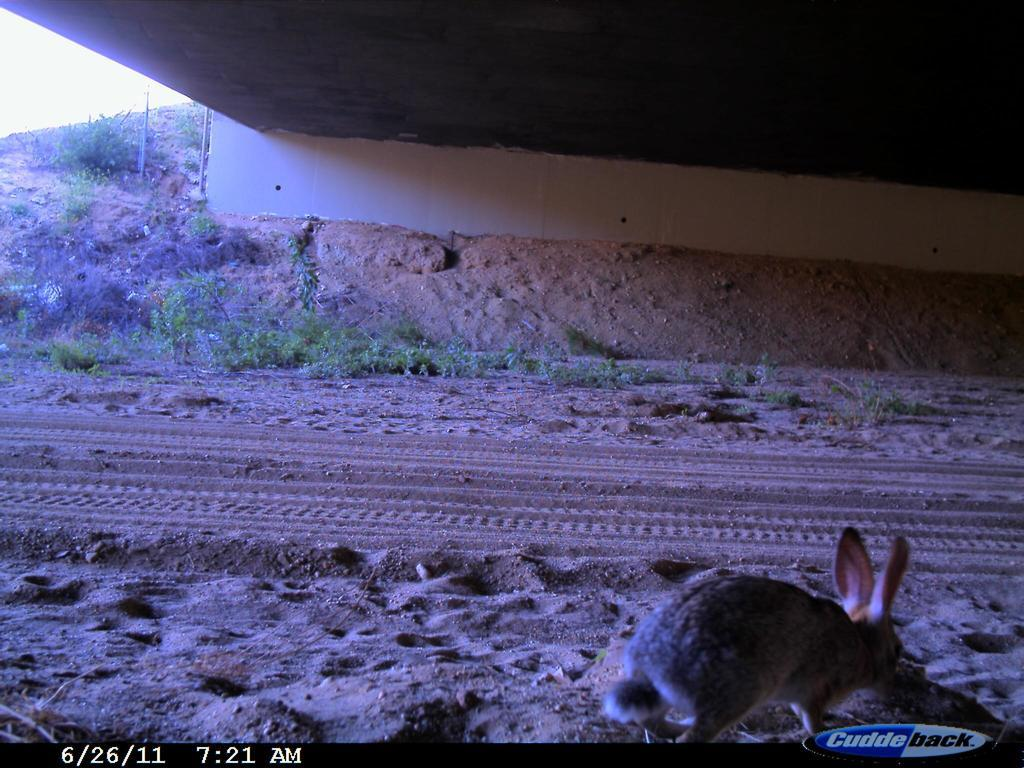rabbit: (594, 518, 916, 738)
